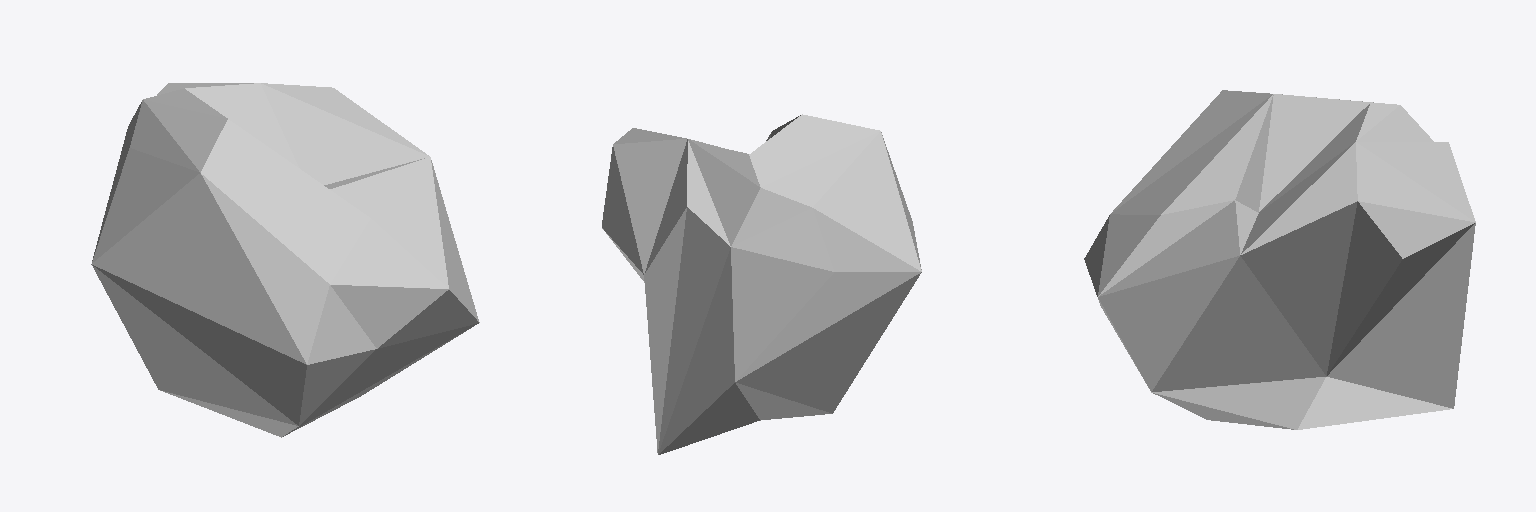
File: rock4.obj
3 views of the same model, side by side, from view 1: azimuth 30°, elevation 25°; view 2: azimuth 150°, elevation 25°; view 3: azimuth 270°, elevation 25° (orthographic).
Parts seen in each view (by area): view 1: Icosphere.003; view 2: Icosphere.003; view 3: Icosphere.003.
Part boxes in pixels (x1,y1,x2,y2): Icosphere.003: (91, 83, 479, 437); Icosphere.003: (602, 114, 921, 454); Icosphere.003: (1084, 90, 1475, 429).
Size of the model in its own units: 4.95 by 4.37 by 5.27.